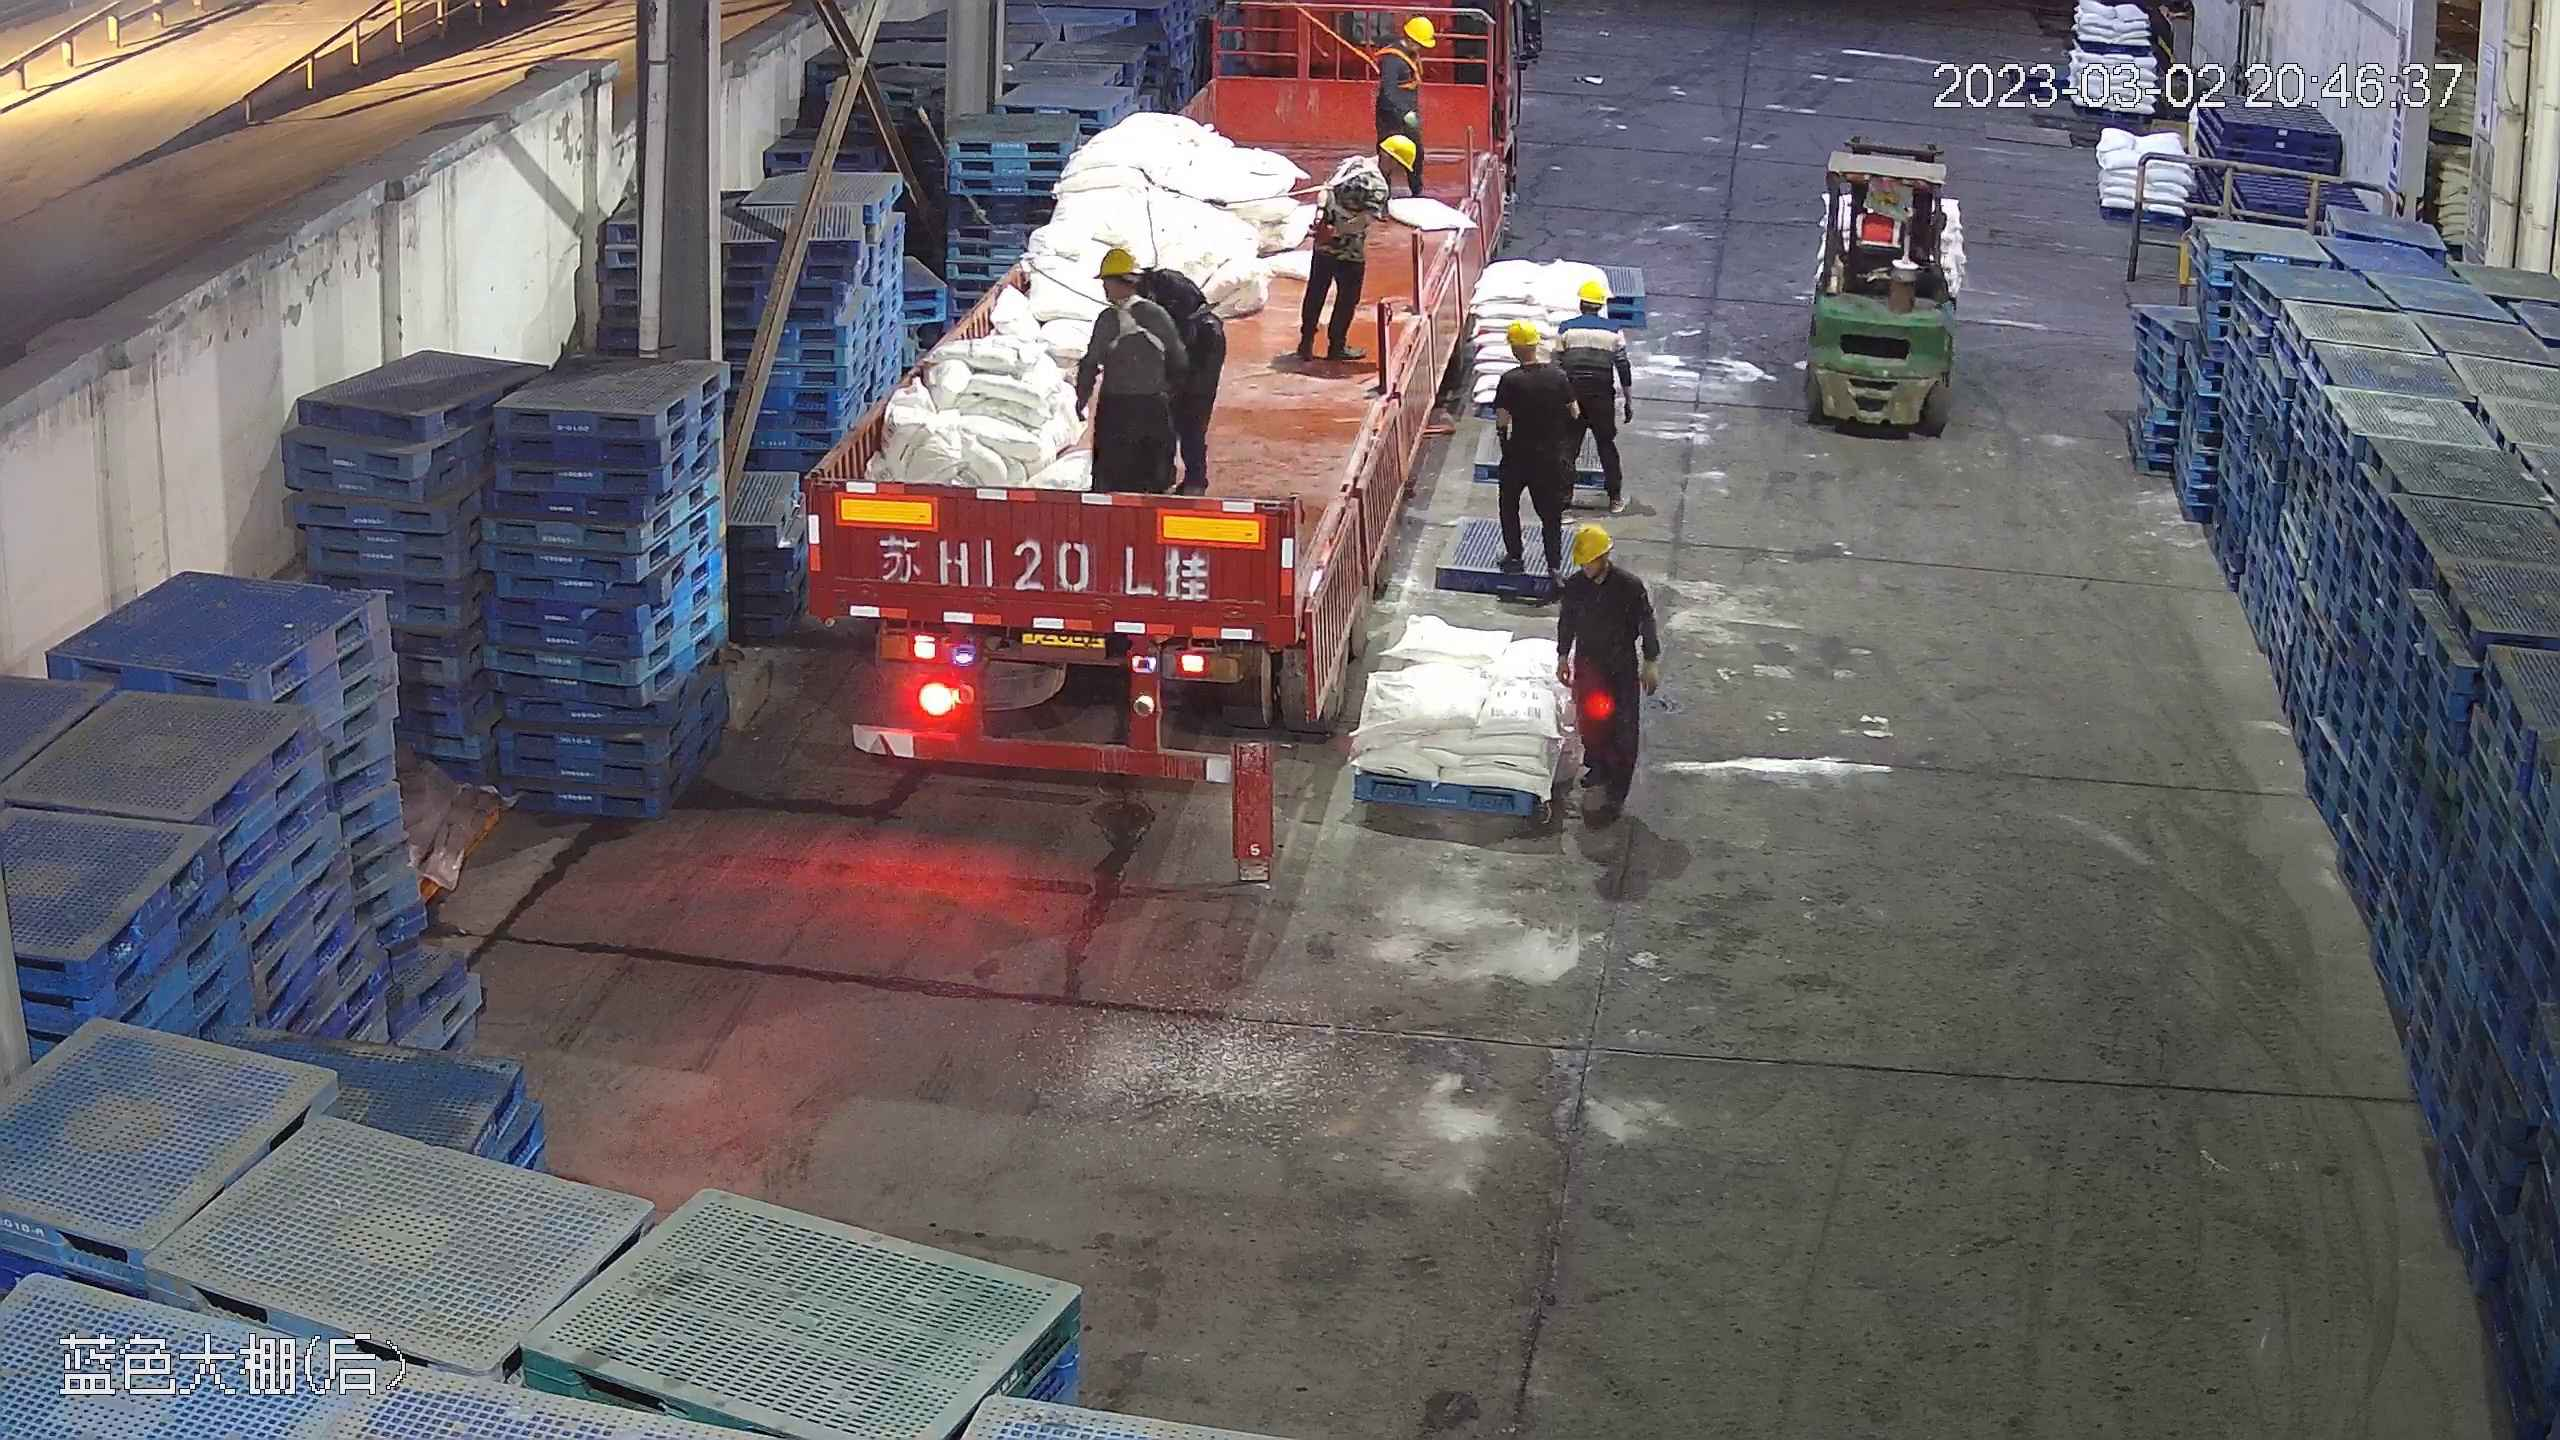belt: (1322, 142, 1403, 215), (1096, 286, 1173, 358), (1311, 158, 1376, 219), (1366, 42, 1413, 94), (1186, 292, 1214, 322)
head: (1555, 519, 1652, 620), (1082, 241, 1177, 338), (1490, 317, 1573, 393), (1340, 132, 1419, 204), (1557, 278, 1624, 344), (1386, 15, 1439, 64)
helmet: (1567, 519, 1614, 563), (1094, 241, 1143, 278), (1378, 133, 1420, 174), (1402, 14, 1440, 47), (1502, 317, 1542, 346), (1577, 277, 1607, 302)
people: (798, 9, 1530, 762), (1077, 243, 1218, 502), (1551, 522, 1659, 836), (1287, 132, 1416, 365), (1470, 315, 1585, 577), (1547, 274, 1635, 508), (1368, 13, 1441, 190)
truck: (799, 9, 1529, 767)
